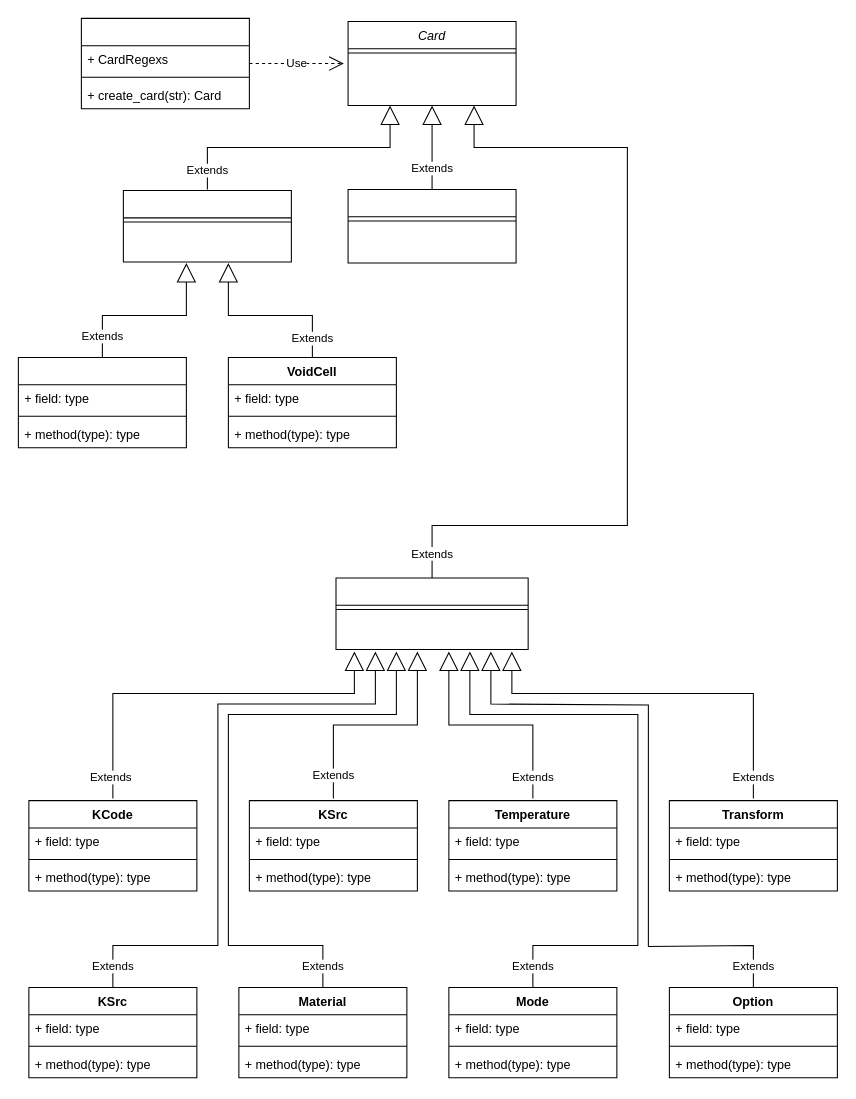
Image size: 856x1099. Some labels were removed from this diagram. The box of each missing label's shape, as (x1, y1, x2, y2) in pixels:
CardFactory: (80, 17, 249, 109)
Cell: (122, 190, 291, 262)
DataCard: (335, 577, 528, 649)
LikeCell: (17, 356, 186, 448)
Surface: (347, 188, 516, 263)
